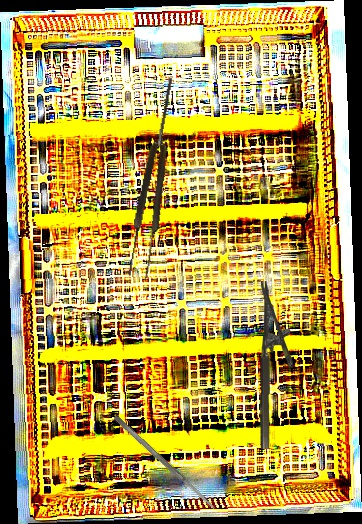Needle Holder: (258, 280, 295, 450)
Spatula Surgical: (112, 413, 217, 512)
Tissue Forceps: (124, 74, 185, 281)
